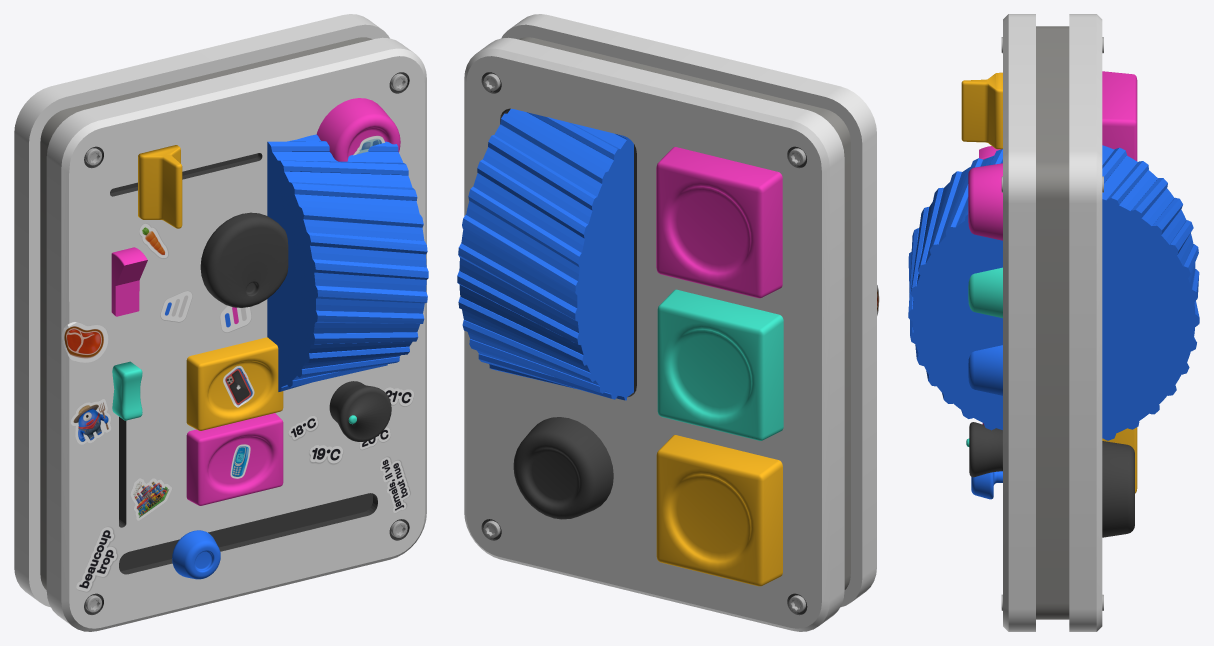
File: configurateur.glb
3 renders of one model, left to right at view 1: azimuth 30°, elevation 25°; view 2: azimuth 150°, elevation 25°; view 3: azimuth 270°, elevation 25°, orthographic. The views are drawn at different scales.
Parts seen in each view (by area): view 1: object.001, gear-real, 6b, 3, 6a, 1, 2a, 7, 4, 8, 5, 4a-stickers (+7 smaller); view 2: object.001, gear-fake, spot-1, spot-3, spot-2, reset; view 3: object.001, gear-fake, gear-real, reset, spot-3, 1, 2a, 7, 2c, 2b, 8, spot-1.
Part boxes in pixels (left/top/right/bottom): object.001: left=14, top=14, right=426, bottom=631; gear-real: left=267, top=134, right=428, bottom=391; 6b: left=186, top=413, right=283, bottom=505; 3: left=200, top=212, right=288, bottom=307; 6a: left=186, top=337, right=283, bottom=430; 1: left=138, top=145, right=182, bottom=228; 2a: left=316, top=98, right=400, bottom=161; 7: left=329, top=381, right=391, bottom=441; 4: left=111, top=247, right=147, bottom=316; 8: left=172, top=530, right=220, bottom=579; 5: left=112, top=361, right=142, bottom=420; 4a-stickers: left=61, top=322, right=108, bottom=362; object.001: left=464, top=14, right=876, bottom=631; gear-fake: left=457, top=108, right=633, bottom=400; spot-1: left=656, top=435, right=782, bottom=586; spot-3: left=656, top=147, right=782, bottom=298; spot-2: left=657, top=289, right=783, bottom=440; reset: left=513, top=417, right=613, bottom=519; object.001: left=1003, top=14, right=1102, bottom=631; gear-fake: left=1102, top=145, right=1199, bottom=440; gear-real: left=908, top=149, right=1002, bottom=430; reset: left=1102, top=441, right=1134, bottom=537; spot-3: left=1102, top=71, right=1137, bottom=161; 1: left=961, top=72, right=1002, bottom=149; 2a: left=968, top=163, right=1002, bottom=240; 7: left=966, top=422, right=1002, bottom=477; 2c: left=968, top=345, right=1002, bottom=395; 2b: left=968, top=267, right=1002, bottom=318; 8: left=971, top=471, right=1002, bottom=499; spot-1: left=1102, top=427, right=1137, bottom=493.
Bounding box in the file's own units: 15.3 × 20.26 × 11.2.
28 materials, 18 textured.
